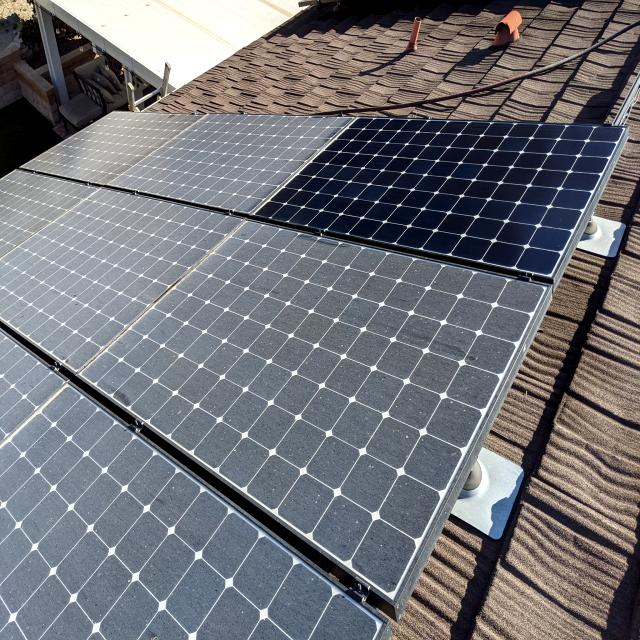dust: (3, 544, 286, 632), (359, 282, 492, 402), (175, 282, 263, 432), (275, 346, 353, 509), (25, 209, 147, 311), (23, 474, 190, 526), (182, 121, 296, 179), (353, 482, 415, 567)
